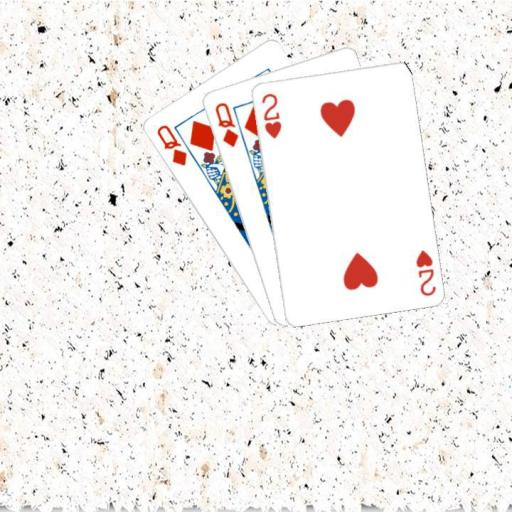2H: (412, 246, 437, 297), (258, 90, 283, 140)
QD: (153, 122, 188, 168), (211, 99, 240, 149)
